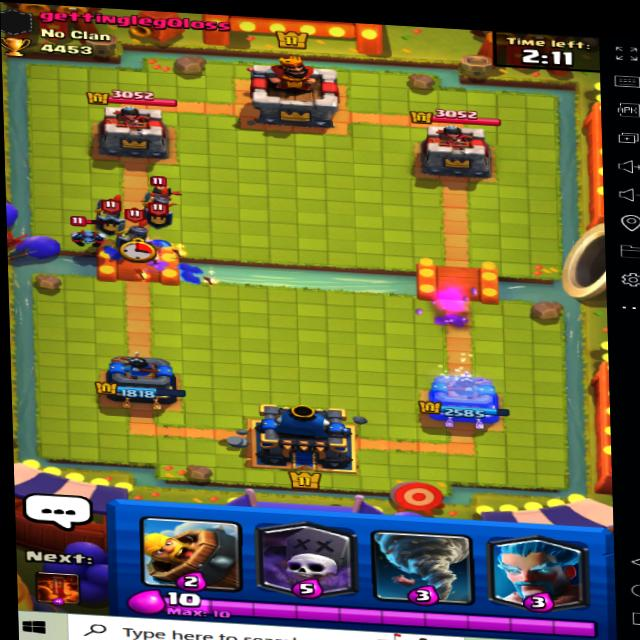Guards: (119, 208, 155, 254), (94, 197, 124, 232), (144, 202, 177, 229)
Minions: (63, 215, 108, 250)
Princess: (145, 174, 179, 210)
